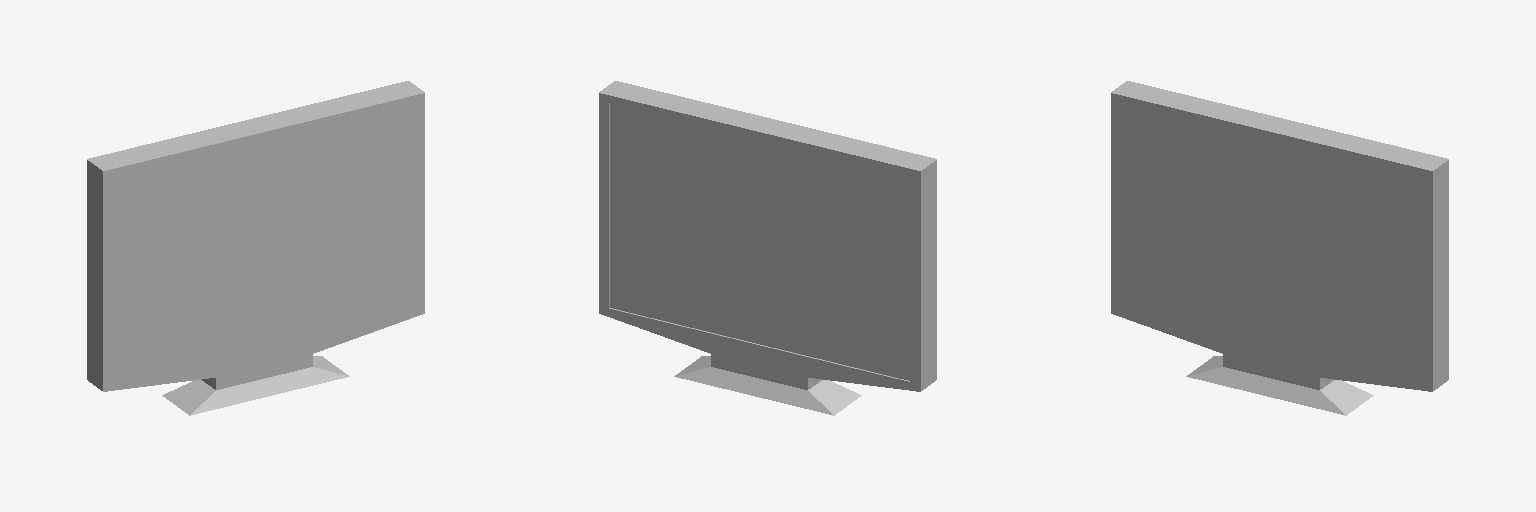
File: mac.obj
The picture shows the model from 3 angles: view 1: azimuth 30°, elevation 25°; view 2: azimuth 150°, elevation 25°; view 3: azimuth 330°, elevation 25°; orthographic projection.
Visible parts, largest first — view 1: default, _2; view 2: _1, _2, default; view 3: default, _2.
Boxes of the visible parts, x1=… form: default: x1=87, y1=81, x2=424, y2=391; _2: x1=87, y1=160, x2=422, y2=415; _1: x1=610, y1=103, x2=909, y2=380; _2: x1=599, y1=93, x2=936, y2=415; default: x1=599, y1=81, x2=936, y2=170; default: x1=1111, y1=81, x2=1448, y2=391; _2: x1=1113, y1=160, x2=1448, y2=415.
Bounding box in the file's own units: 7.68 × 5.93 × 1.15.